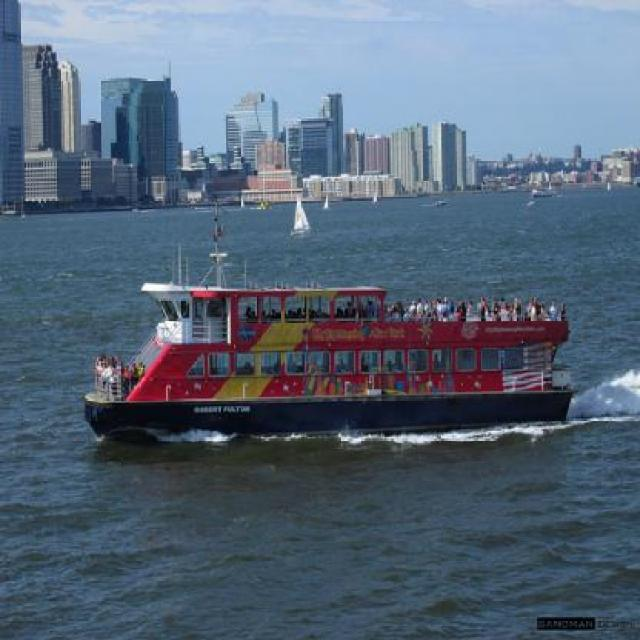ship: (86, 198, 577, 431), (287, 193, 318, 236), (527, 178, 561, 197)
